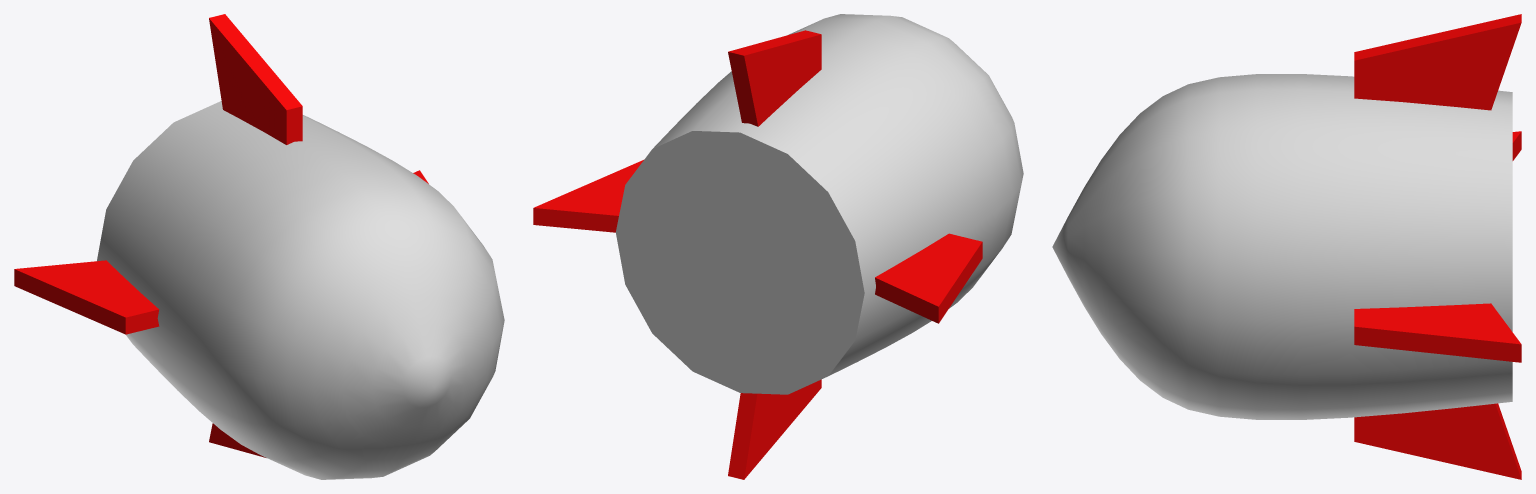
The model's file is Rocket.FBX.
3 views of the same model, side by side, from view 1: azimuth 30°, elevation 25°; view 2: azimuth 150°, elevation 25°; view 3: azimuth 270°, elevation 25° (orthographic). The views are drawn at different scales.
Visible parts, largest first — view 1: Line001; view 2: Line001; view 3: Line001.
Part boxes in pixels (box(x1,y1,x2,y2)): Line001: box(14, 14, 504, 479); Line001: box(533, 14, 1023, 479); Line001: box(1052, 14, 1521, 479).
Bounding box in the file's own units: 92.42 × 85.95 × 92.42.
